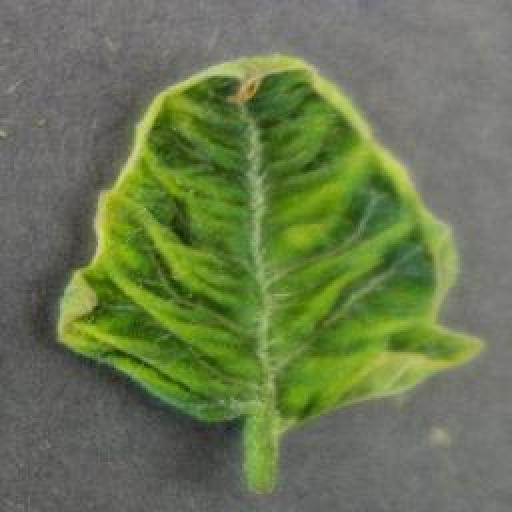Yellow Leaf Curl Virus: (52, 55, 487, 432)
